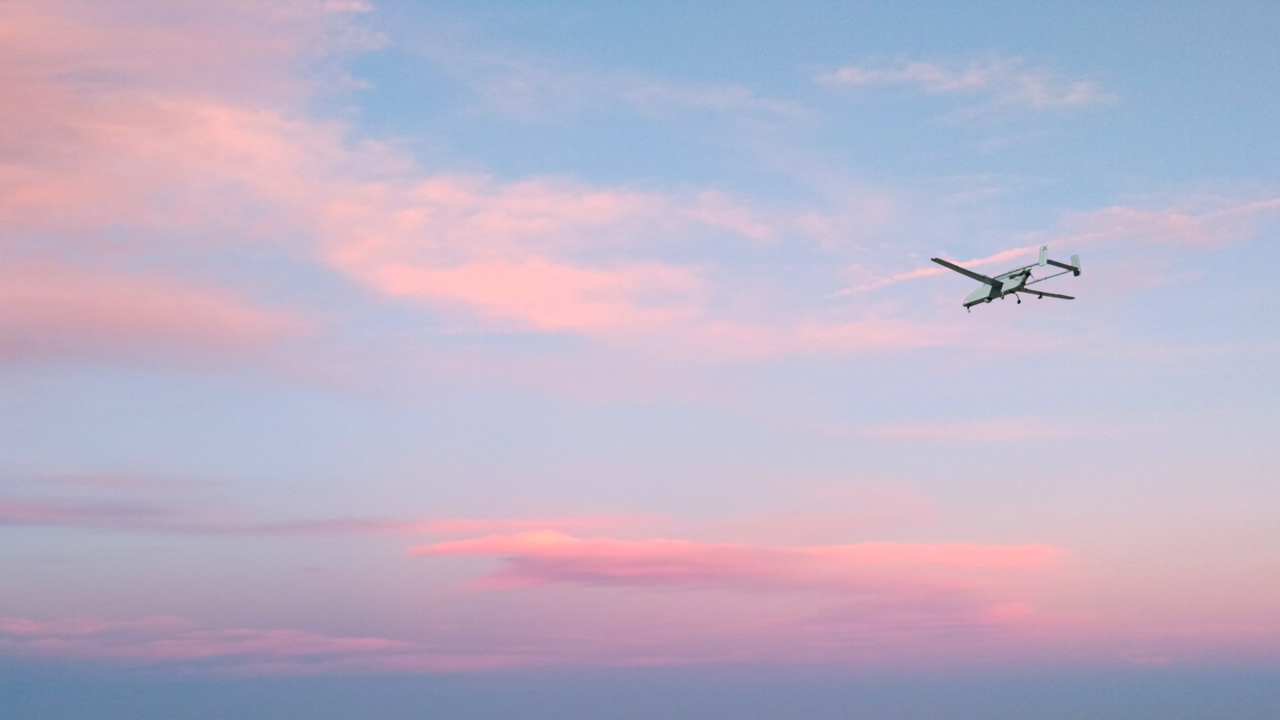military drone: (930, 245, 1081, 313)
